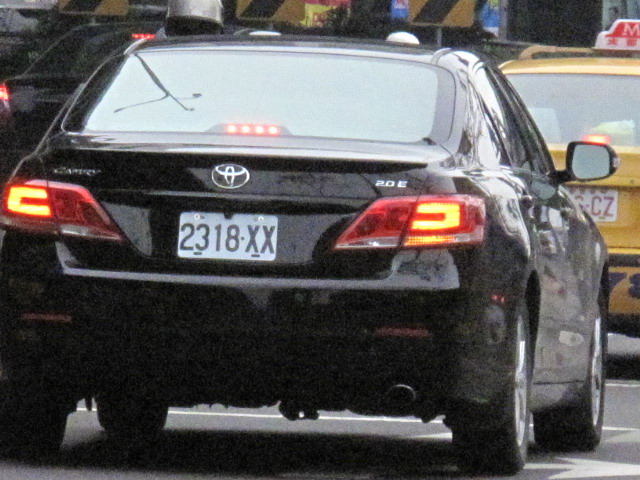plate: (177, 207, 282, 262)
